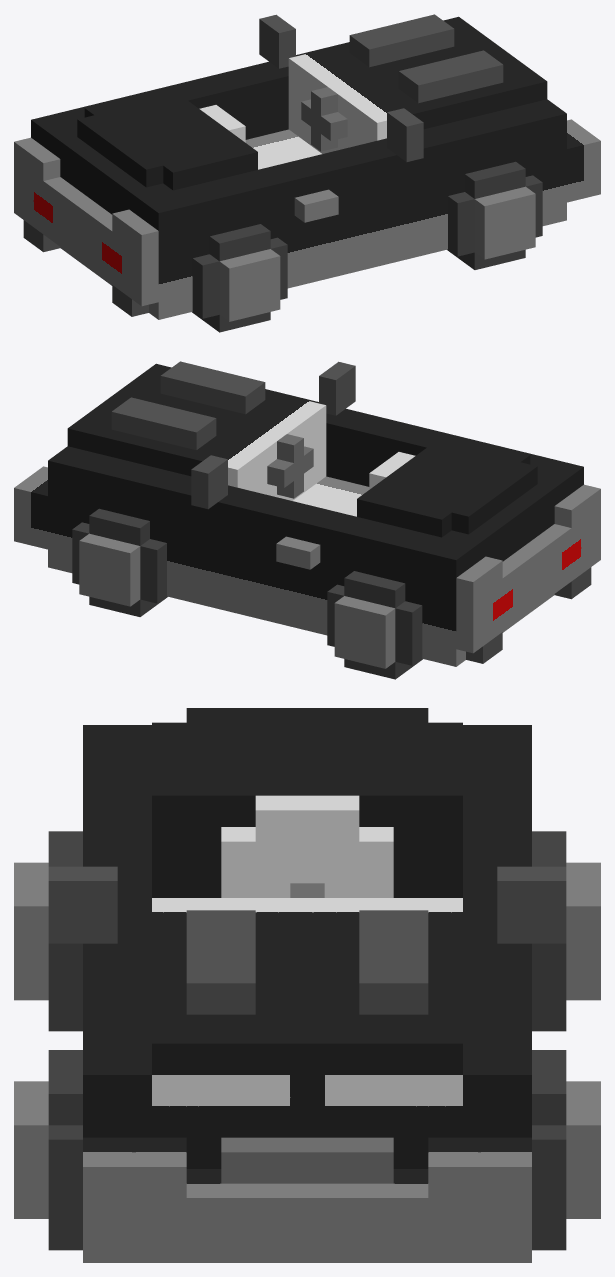
File: veh_car2a.dae
3 renders of one model, top to bottom at view 1: azimuth 30°, elevation 25°; view 2: azimuth 150°, elevation 25°; view 3: azimuth 270°, elevation 25°, orthographic. The views are drawn at different scales.
Parts seen in each view (by area): view 1: veh_car2a; view 2: veh_car2a; view 3: veh_car2a.
Part boxes in pixels (box(x1,y1,x2,y2)): veh_car2a: box(14, 14, 600, 332); veh_car2a: box(14, 361, 600, 679); veh_car2a: box(14, 708, 600, 1262).
Size of the model in its own units: 2.7 by 1.7 by 0.9.
Materials: 1 (1 with a texture image).
